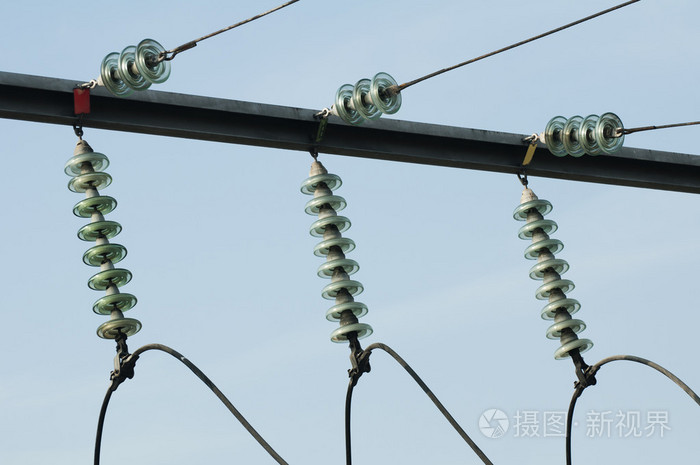insulator: (63, 151, 143, 340), (510, 196, 597, 360), (302, 170, 372, 340), (542, 111, 631, 157), (100, 39, 173, 93), (337, 72, 406, 124)
